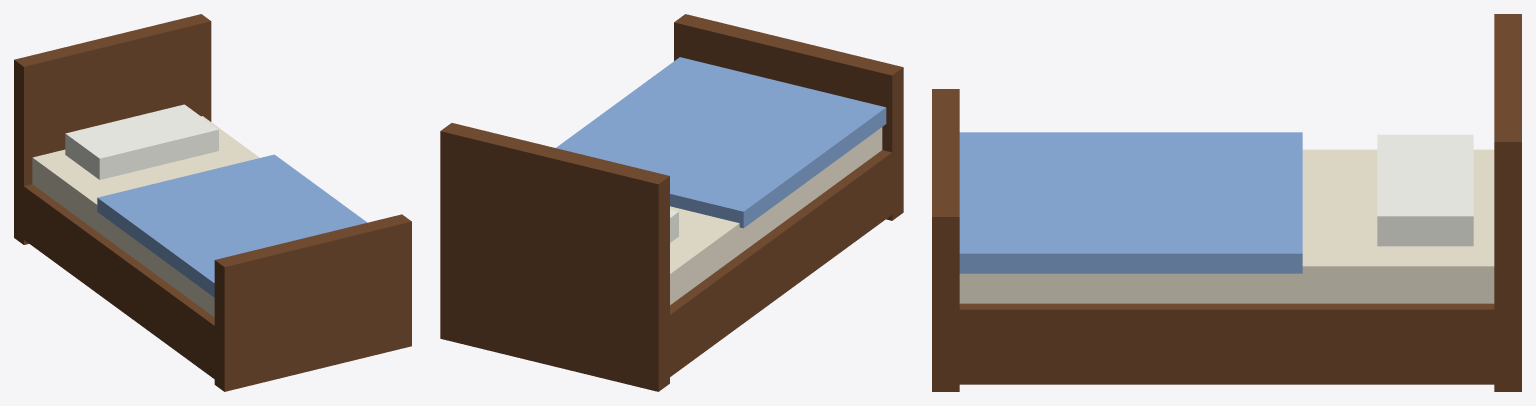
Rendered from bed.glb.
The picture shows the model from 3 angles, left to right: view 1: azimuth 30°, elevation 25°; view 2: azimuth 150°, elevation 25°; view 3: azimuth 270°, elevation 25°; orthographic projection. The views are drawn at different scales.
Visible parts, largest first — view 1: Bed-col, Bedding; view 2: Bed-col, Bedding; view 3: Bedding, Bed-col.
Part boxes in pixels (box(x1,y1,x2,y2)): Bed-col: box(14, 14, 411, 391); Bedding: box(32, 104, 366, 317); Bed-col: box(440, 14, 903, 391); Bedding: box(556, 57, 886, 304); Bedding: box(959, 132, 1494, 303); Bed-col: box(932, 14, 1521, 391).
Bounding box in the file's own units: 1.1 × 1 × 2.14.
